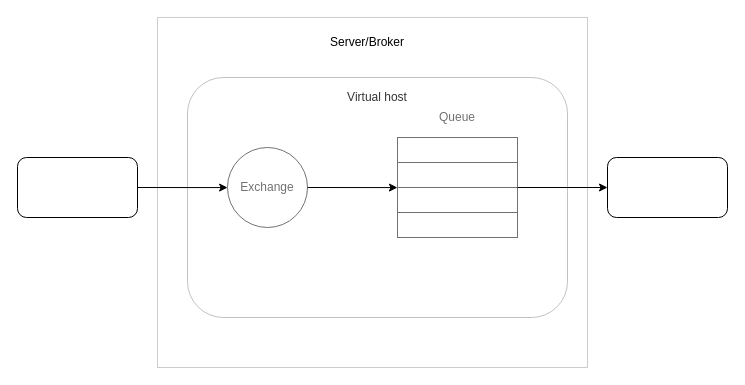
Some shapes in this 745 by 385 pixel diagram are drawn without their labels. The shapes that lost their labels are listed below. From the top down, each one's box as (x1, y1, x2, y2) in pixels, then its label:
(16, 156, 138, 218): Producer
(606, 156, 728, 218): Consumer
